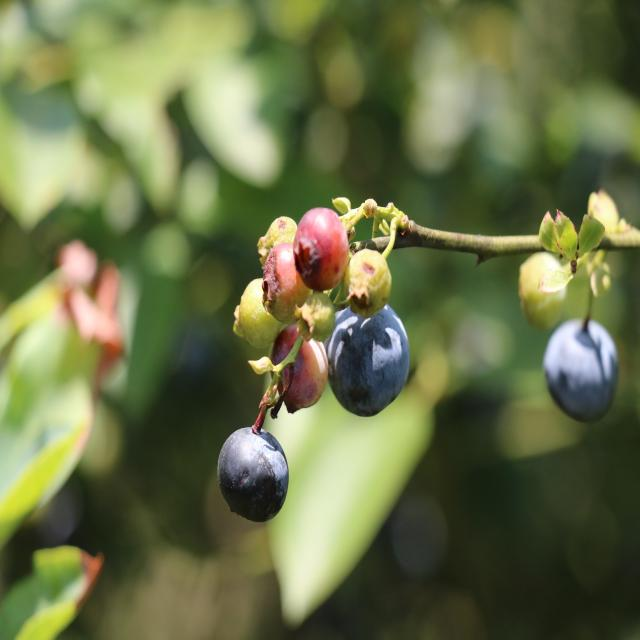blueberry: (325, 302, 415, 416), (546, 313, 623, 431), (217, 421, 290, 525)
blueberry-halfripe: (270, 328, 328, 410), (296, 209, 348, 287), (266, 244, 306, 320)
blueberry-unripe: (516, 248, 574, 330), (345, 246, 393, 316), (236, 278, 278, 344)
